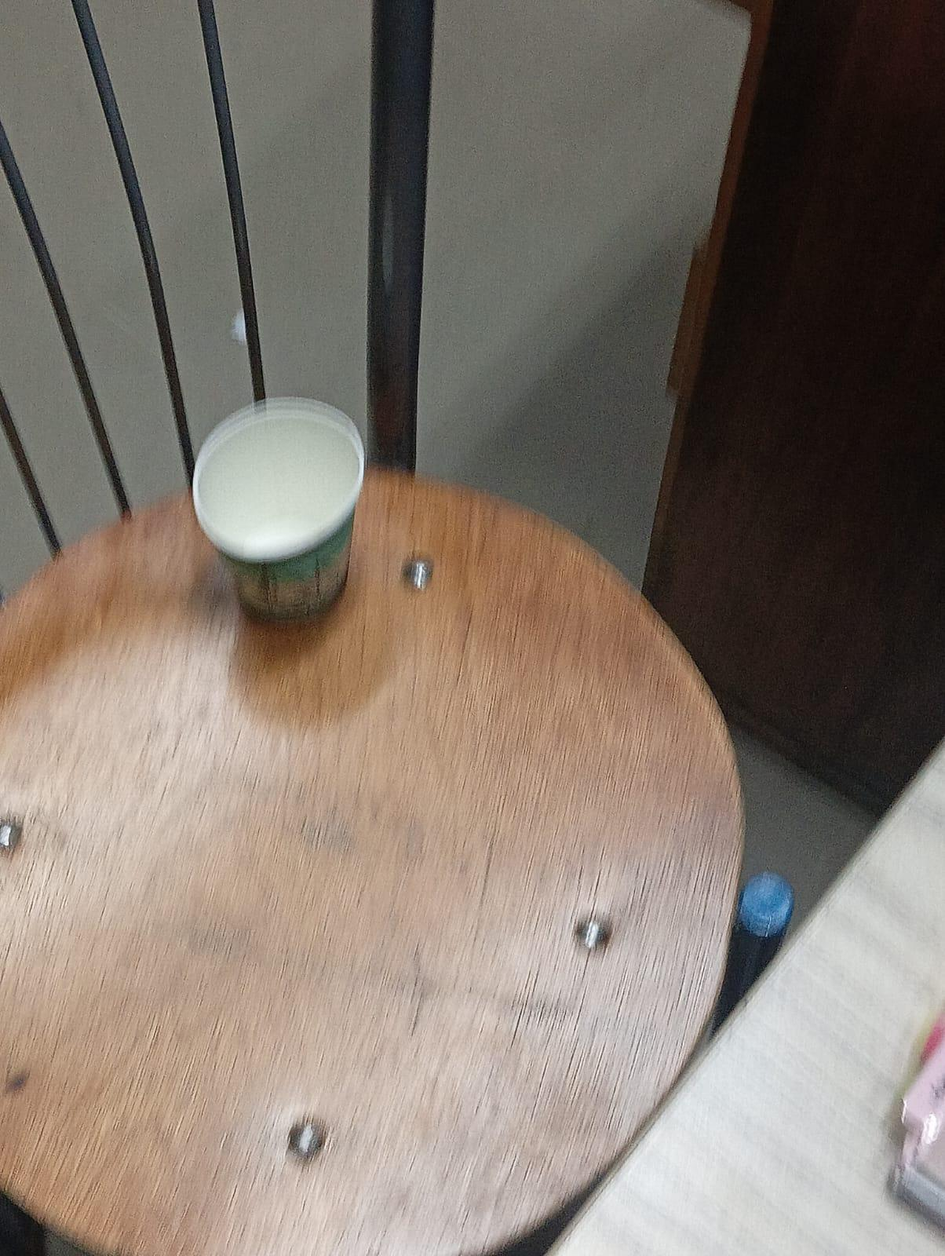cup: (193, 398, 364, 619)
